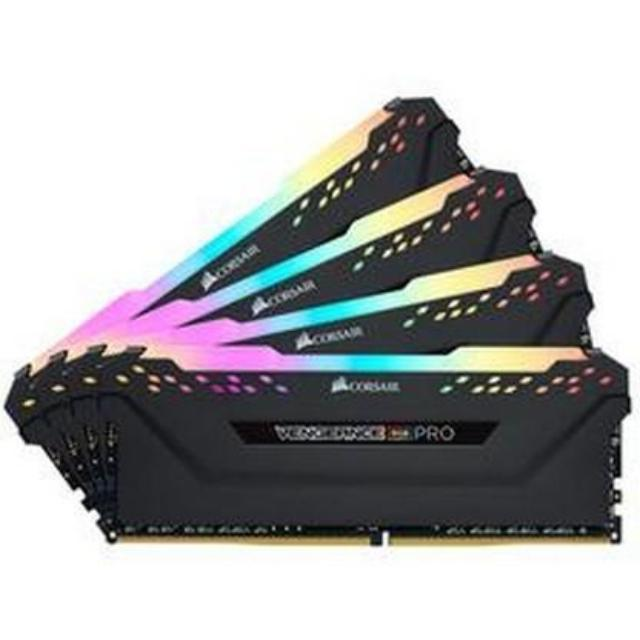RAM: (0, 89, 640, 572)
